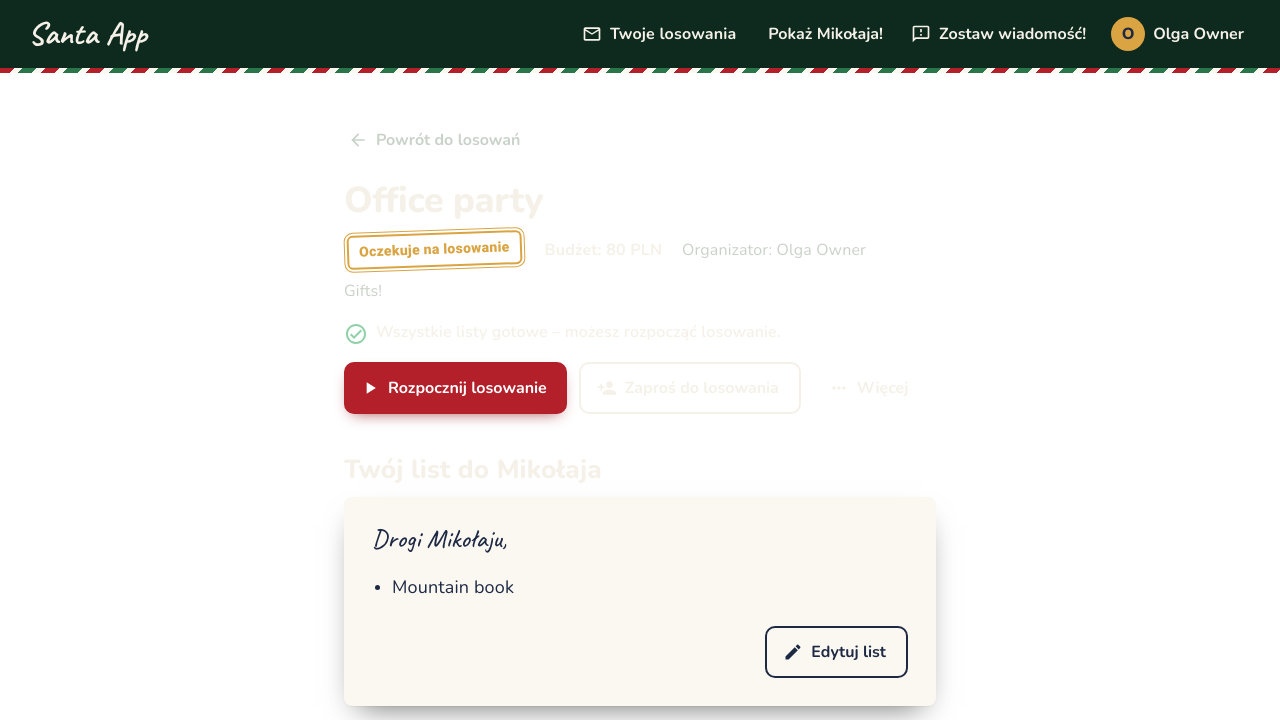
Scenario: DrawPage › explains in Polish when starting the draw fails
Click the button "Rozpocznij losowanie". click: (455, 388)
box: [344,362,567,414]
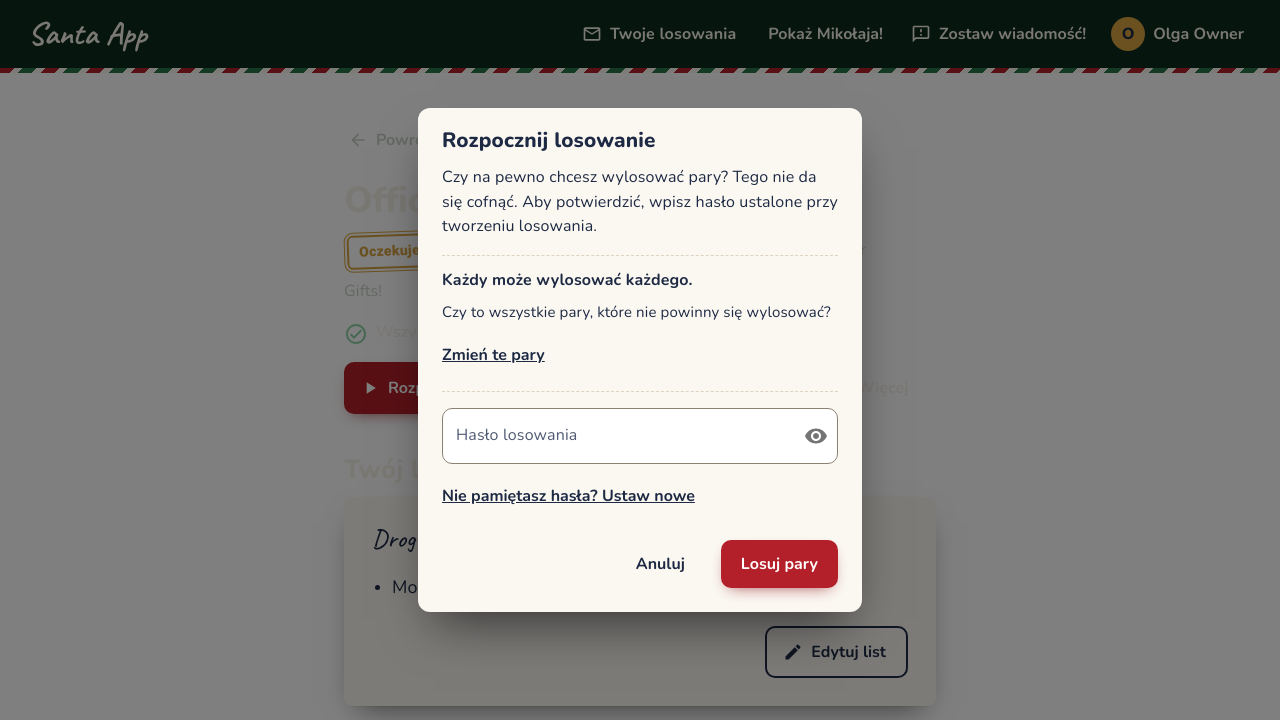
Type "secret1" into the password field labelled "Hasło losowania". click: (615, 436)
box: [442,408,788,464]
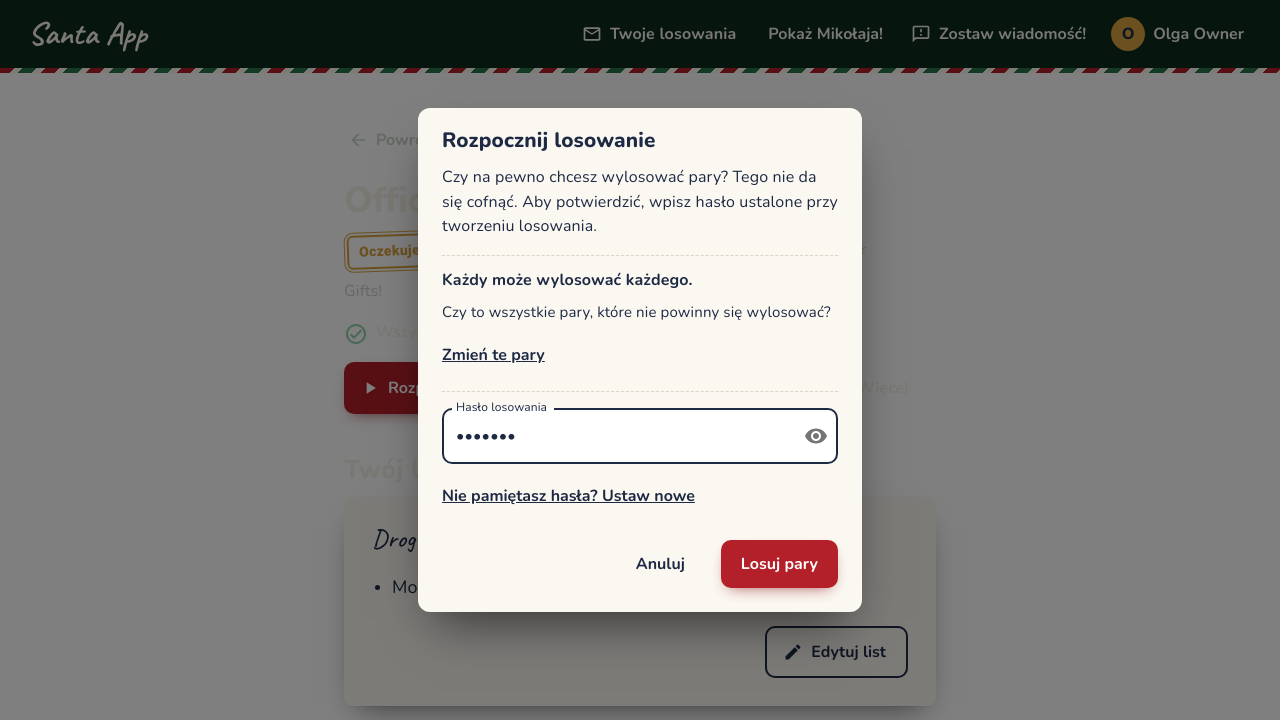
Click the button "Losuj pary". click: (779, 564)
box: [721,540,838,588]
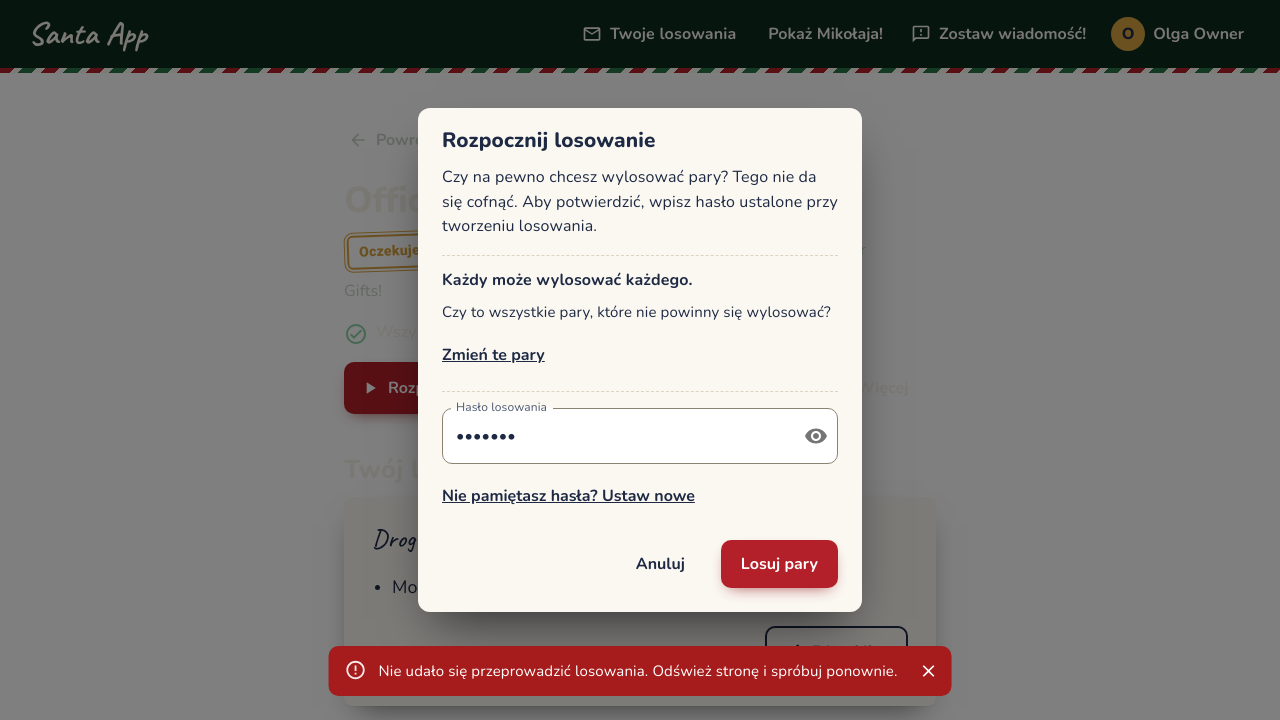
Expected: the text "Nie udało się przeprowadzić losowania" is shown, [378,660,897,680]
